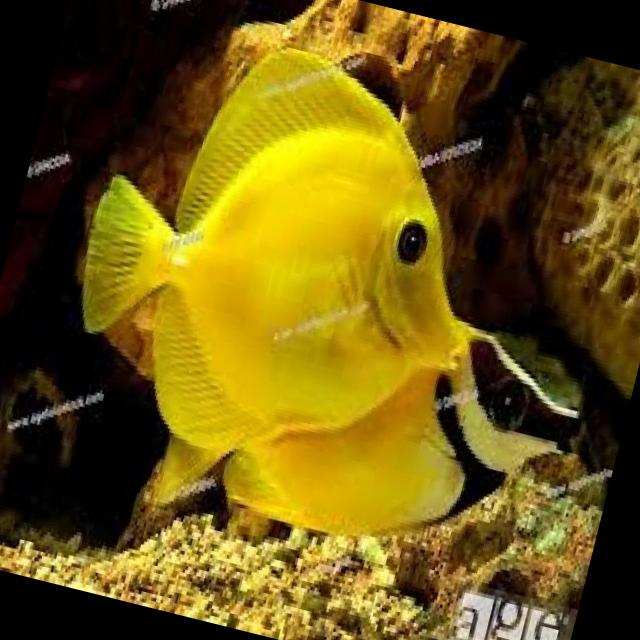TangFish: (38, 8, 520, 497)
